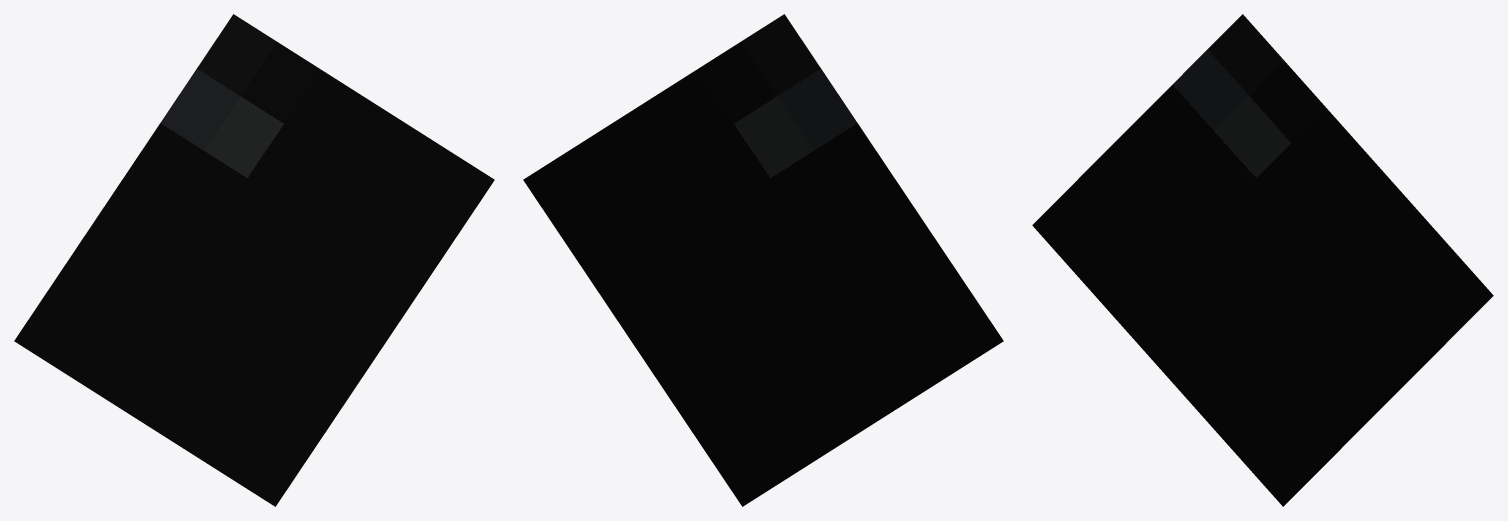
Rendered from icewhisper.gltf.
3 renders of one model, left to right at view 1: azimuth 30°, elevation 25°; view 2: azimuth 150°, elevation 25°; view 3: azimuth 330°, elevation 25°, orthographic. The views are drawn at different scales.
Parts seen in each view (by area): view 1: cube; view 2: cube; view 3: cube.
Part boxes in pixels (x1,y1,x2,y2): cube: (14, 14, 494, 506); cube: (523, 14, 1003, 506); cube: (1032, 14, 1493, 506).
Size of the model in its own units: 0.8805 by 0.8805 by 6.25e-05.
1 material, 1 textured.
